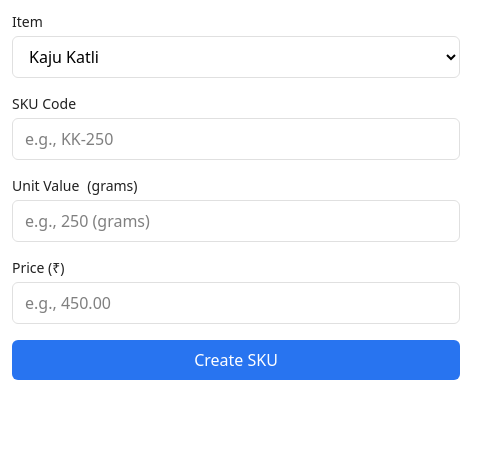
it: CreateSKUForm › shows validation error when code is empty
Click the button "Create SKU". click: (236, 360)
box: x1=12 y1=340 x2=460 y2=380
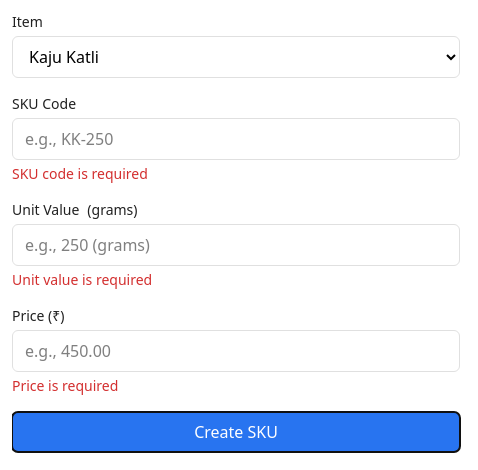
Result: the text "SKU code is required" is shown at x1=12 y1=164 x2=148 y2=183
